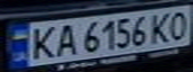1: (97, 17, 118, 51)
5: (115, 15, 136, 48)
6: (78, 19, 103, 53), (130, 12, 151, 47)
A: (51, 21, 81, 57)
K: (24, 24, 60, 61), (148, 10, 175, 44)
O: (163, 8, 193, 41)
